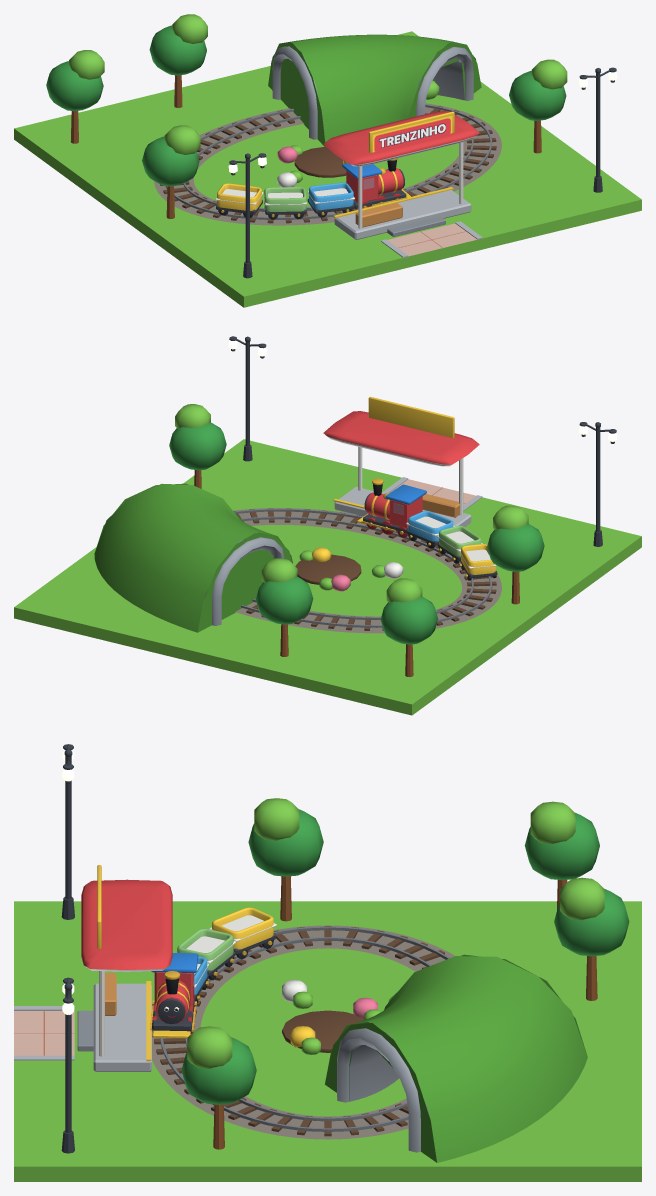
Rendered from trenzinho_infantil.glb.
3 renders of one model, top to bottom at view 1: azimuth 30°, elevation 25°; view 2: azimuth 150°, elevation 25°; view 3: azimuth 270°, elevation 25°, orthographic. The views are drawn at different scales.
Visible parts, largest first — view 1: trenzinho_infantil, locomotiva, vagao_1, vagao_2, vagao_3; view 2: trenzinho_infantil, locomotiva, vagao_1, vagao_3, vagao_2; view 3: trenzinho_infantil, locomotiva, vagao_3, vagao_2.
Part boxes in pixels (x1,y1,x2,y2): trenzinho_infantil: [14, 14, 641, 307]; locomotiva: [342, 158, 411, 208]; vagao_1: [307, 182, 355, 217]; vagao_2: [264, 187, 311, 219]; vagao_3: [215, 183, 264, 217]; trenzinho_infantil: [14, 336, 641, 715]; locomotiva: [357, 478, 426, 537]; vagao_1: [406, 510, 454, 548]; vagao_3: [459, 544, 497, 580]; vagao_2: [437, 525, 482, 563]; trenzinho_infantil: [14, 744, 641, 1181]; locomotiva: [150, 953, 198, 1038]; vagao_3: [209, 907, 276, 959]; vagao_2: [177, 928, 235, 980].
Size of the model in its own units: 15 by 4.83 by 15.
Materials: 4 (2 with a texture image).
